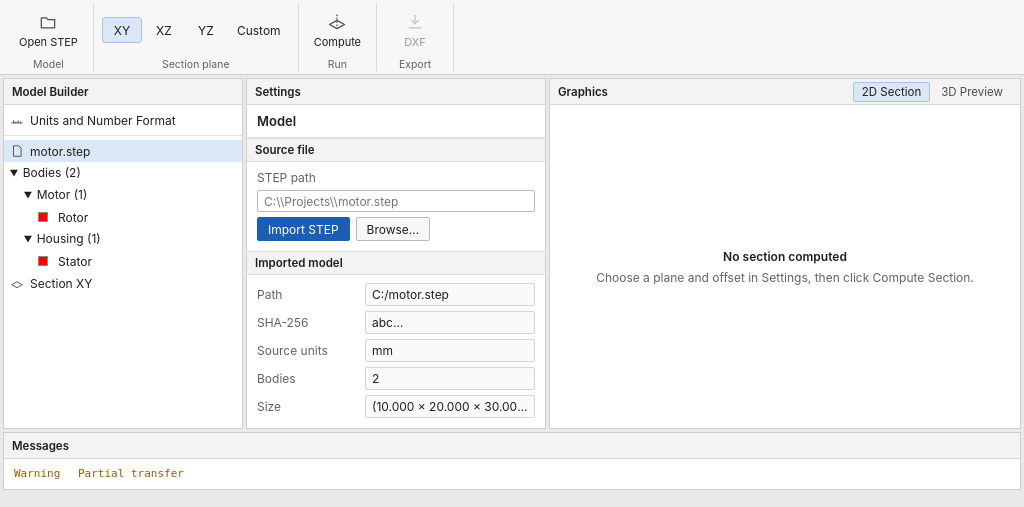
it: STEP workspace › groups bodies by parent assembly and returns to model settings from the file node
The width and height of the screenshot is (1024, 507).
Expected: the heading "Motor (1)" is shown, [37,187,87,202]
Expected: the heading "Housing (1)" is shown, [37,231,101,246]
What coordinates should you click on to do the following:
click the button "Stator"
I would click on:
 (137, 261)
Its box is [32,250,242,272].
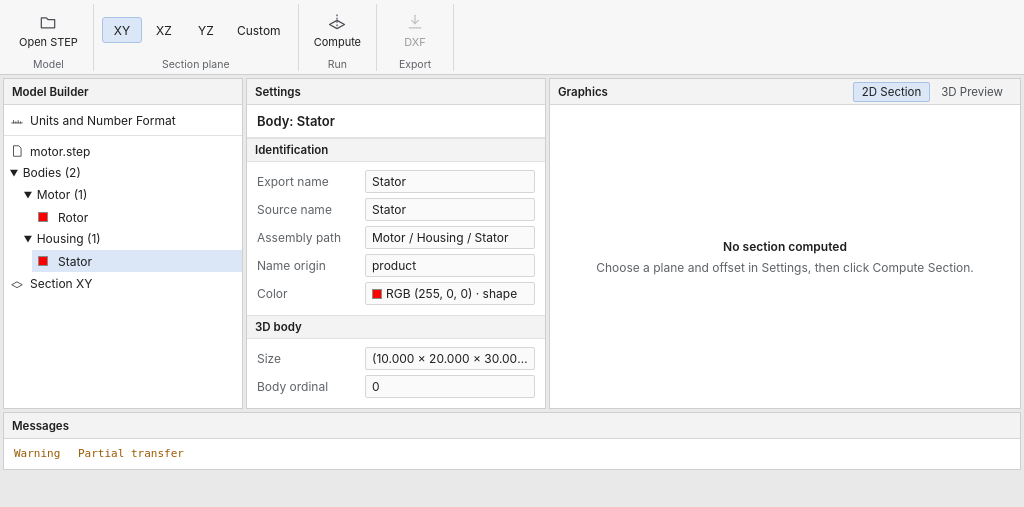
Result: the text "Body: Stator" is shown at [257,113,335,129]
Result: the text "Motor / Housing / Stator" is shown at [365,226,535,249]
What coordinates should you click on to do the following:
click the button "motor.step"
I would click on:
 (123, 151)
Its box is [4,140,242,162].
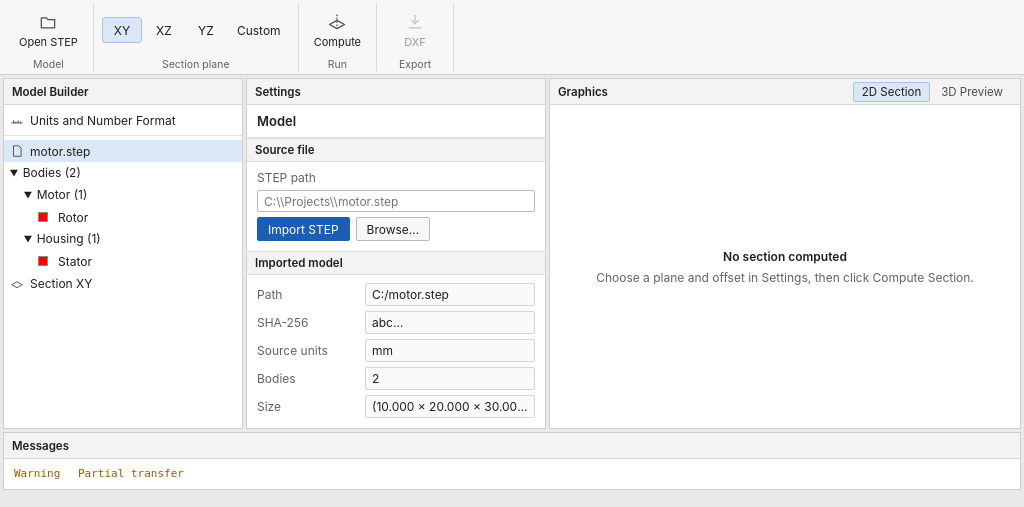
Result: the field labelled "STEP path" is shown at [257,190,535,212]
